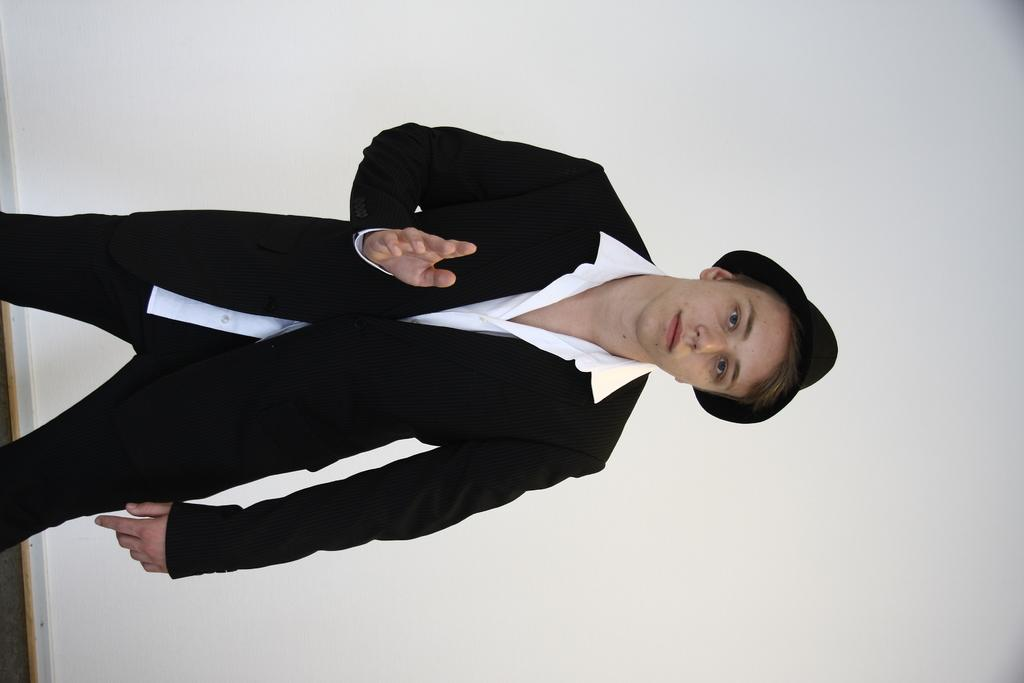Hat: (688, 248, 836, 422)
